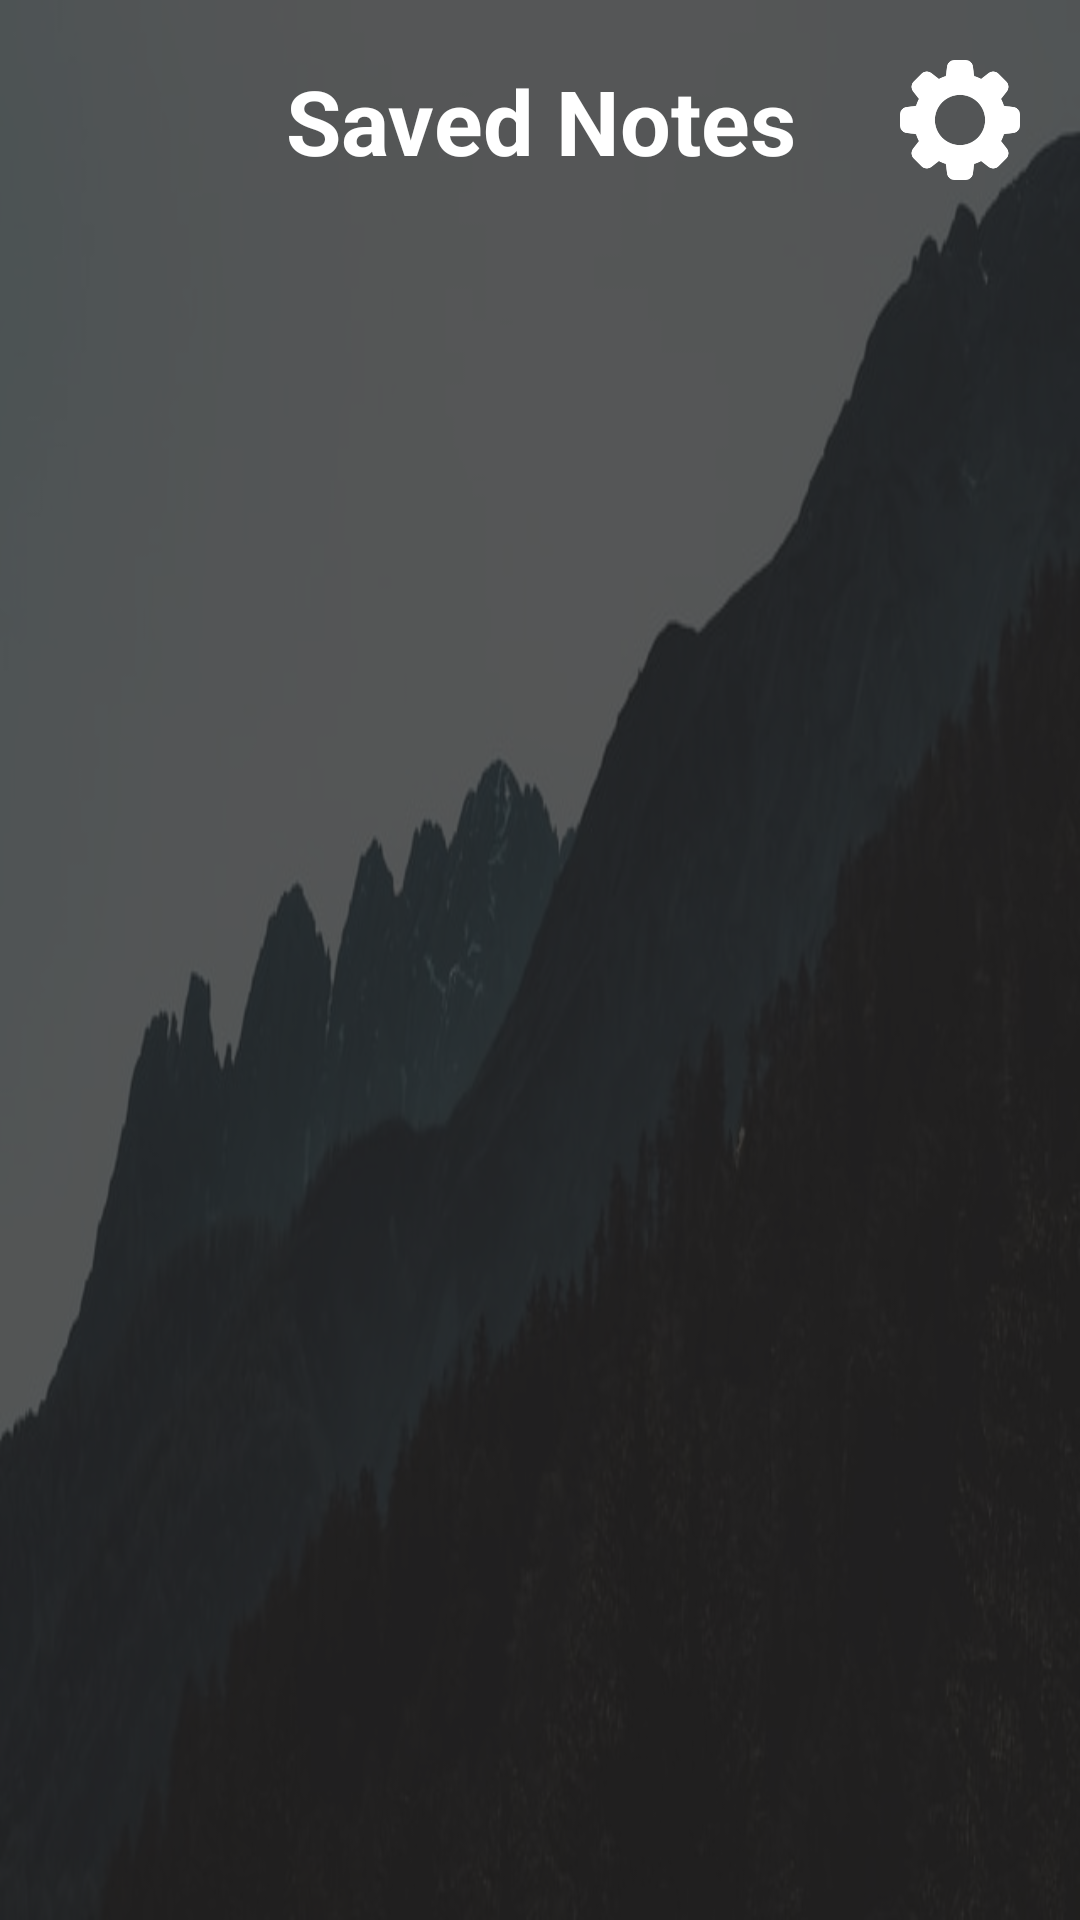

Screen size 1080*1920. Icon name, then its center in pixels as (x=x, y=y):
settings: (x=960, y=120)
